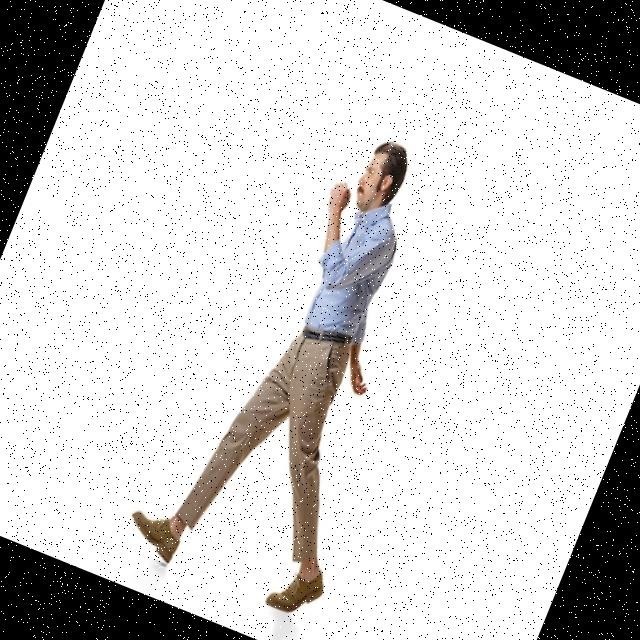Person: (119, 102, 489, 624)
